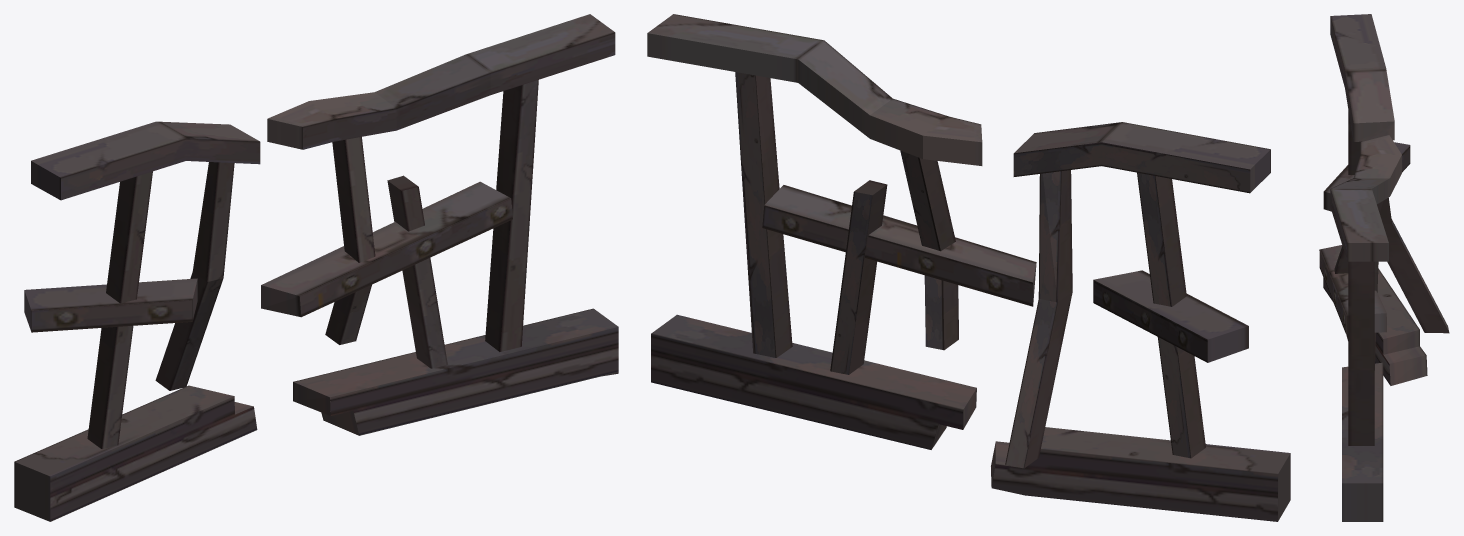
Rendered from 2_ChengZhen_PoMuDiQiang_01_WuLi.FBX.
3 renders of one model, left to right at view 1: azimuth 30°, elevation 25°; view 2: azimuth 150°, elevation 25°; view 3: azimuth 270°, elevation 25°, orthographic. The views are drawn at different scales.
Visible parts, largest first — view 1: 2_ChengZhen_PoMuDiQiang_02, 2_ChengZhen_PoMuDiQiang_04, 2_ChengZhen_PoMuDiQiang_01, 2_ChengZhen_PoMuDiQiang_05, 2_ChengZhen_PoMuDiQiang_03; view 2: 2_ChengZhen_PoMuDiQiang_02, 2_ChengZhen_PoMuDiQiang_04, 2_ChengZhen_PoMuDiQiang_05, 2_ChengZhen_PoMuDiQiang_01, 2_ChengZhen_PoMuDiQiang_03; view 3: 2_ChengZhen_PoMuDiQiang_04, 2_ChengZhen_PoMuDiQiang_02, 2_ChengZhen_PoMuDiQiang_01, 2_ChengZhen_PoMuDiQiang_03, 2_ChengZhen_PoMuDiQiang_05.
Part boxes in pixels (left/top/right/bottom): 2_ChengZhen_PoMuDiQiang_02: left=261, top=137, right=618, bottom=435; 2_ChengZhen_PoMuDiQiang_04: left=24, top=121, right=260, bottom=448; 2_ChengZhen_PoMuDiQiang_01: left=267, top=14, right=615, bottom=149; 2_ChengZhen_PoMuDiQiang_05: left=14, top=385, right=257, bottom=521; 2_ChengZhen_PoMuDiQiang_03: left=485, top=79, right=538, bottom=351; 2_ChengZhen_PoMuDiQiang_02: left=651, top=150, right=1036, bottom=449; 2_ChengZhen_PoMuDiQiang_04: left=1005, top=122, right=1270, bottom=468; 2_ChengZhen_PoMuDiQiang_05: left=991, top=427, right=1290, bottom=521; 2_ChengZhen_PoMuDiQiang_01: left=647, top=14, right=982, bottom=165; 2_ChengZhen_PoMuDiQiang_03: left=735, top=72, right=792, bottom=357; 2_ChengZhen_PoMuDiQiang_04: left=1323, top=14, right=1449, bottom=333; 2_ChengZhen_PoMuDiQiang_02: left=1319, top=200, right=1386, bottom=521; 2_ChengZhen_PoMuDiQiang_01: left=1330, top=135, right=1401, bottom=261; 2_ChengZhen_PoMuDiQiang_03: left=1348, top=261, right=1374, bottom=445; 2_ChengZhen_PoMuDiQiang_05: left=1323, top=268, right=1427, bottom=385.
Size of the model in its own units: 470 by 257 by 109.
